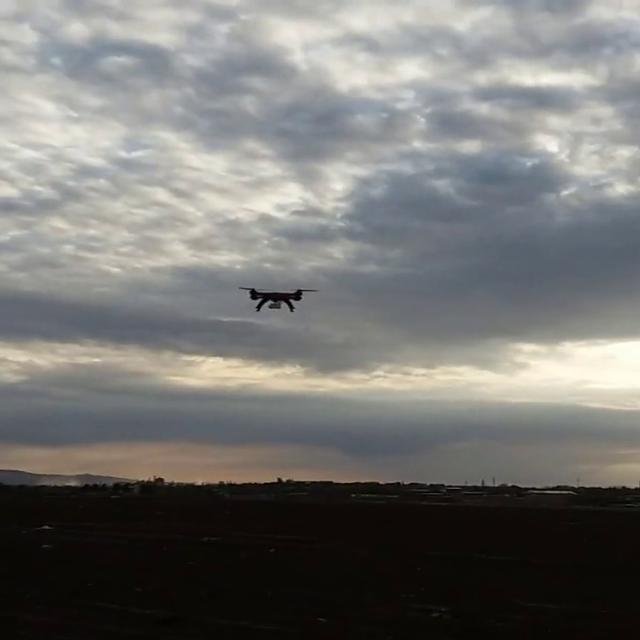drone: (232, 279, 324, 316)
